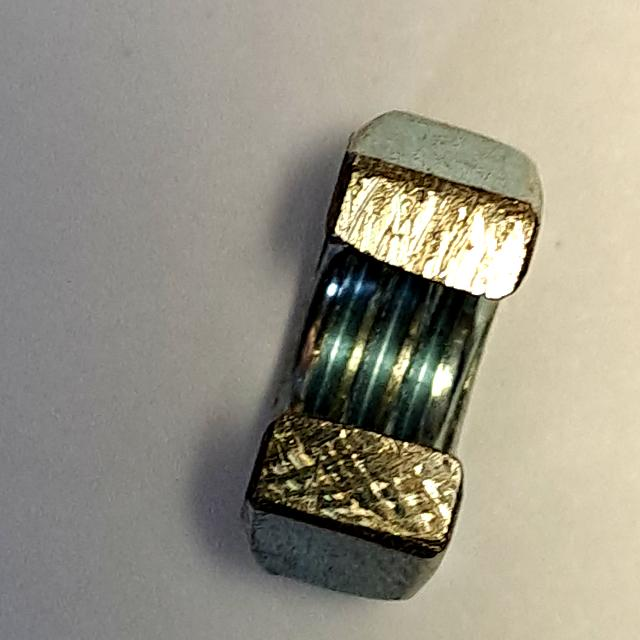Side-Fracture: (222, 96, 555, 612)
